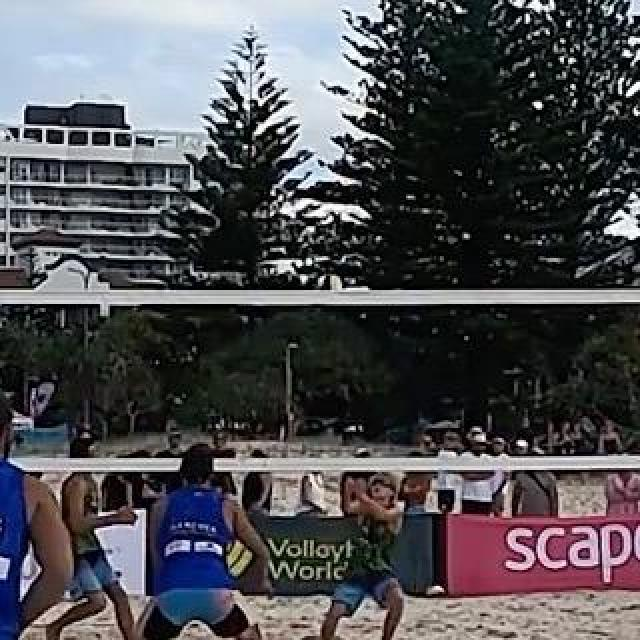volleyball: (318, 274, 344, 292)
